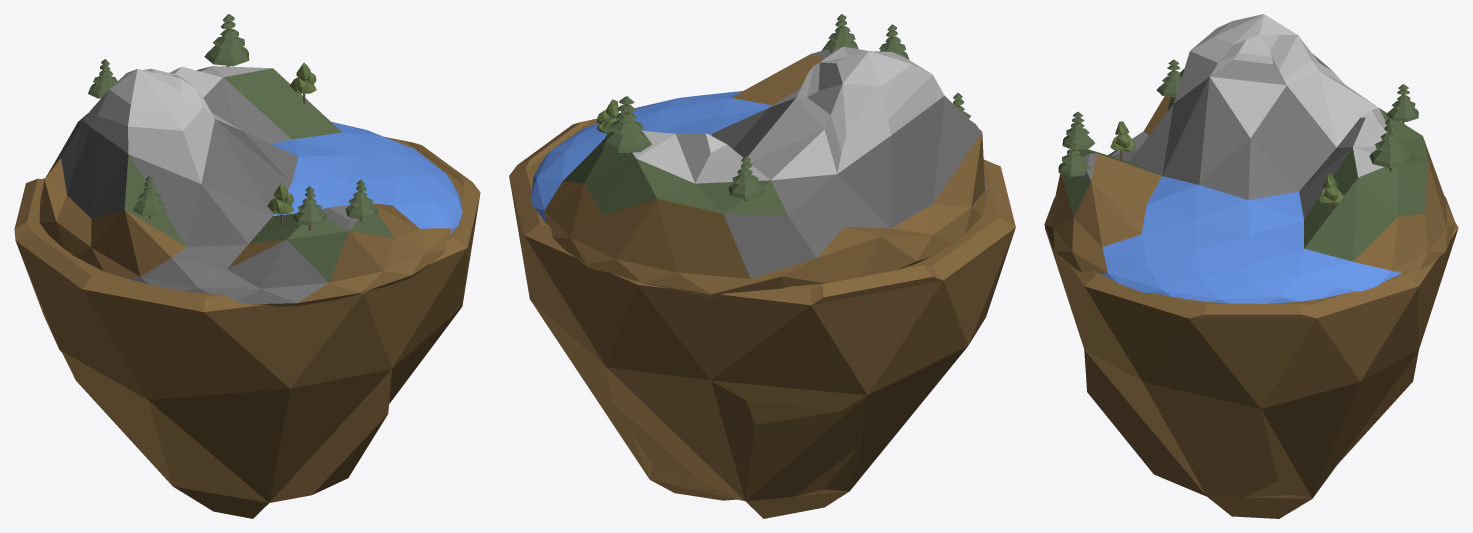
The model's file is snowMountains.glb.
3 views of the same model, side by side, from view 1: azimuth 30°, elevation 25°; view 2: azimuth 150°, elevation 25°; view 3: azimuth 270°, elevation 25° (orthographic). The views are drawn at different scales.
Parts seen in each view (by area): view 1: planet, Icosphere.001, Cone.005, Cone.004, Cone.002, Cone.001, Cone.003, Tree Type4 01 Model, Tree Type4 01 Model.002; view 2: planet, Icosphere.001, Cone.005, Cone.003, Cone.001; view 3: Icosphere.001, planet, Cone.005, Cone.001, Cone.003, Cone.004, Cone.002, Tree Type4 01 Model.002, Tree Type4 01 Model.
Part boxes in pixels (x1,y1,x2,y2): planet: [14, 137, 480, 518]; Icosphere.001: [39, 66, 462, 306]; Cone.005: [204, 14, 249, 66]; Cone.004: [293, 186, 327, 230]; Cone.002: [133, 176, 166, 219]; Cone.001: [345, 180, 378, 221]; Cone.003: [88, 59, 117, 98]; Tree Type4 01 Model: [289, 62, 316, 93]; Tree Type4 01 Model.002: [267, 182, 293, 214]; planet: [509, 118, 1015, 518]; Icosphere.001: [530, 46, 987, 297]; Cone.005: [603, 96, 652, 157]; Cone.003: [728, 156, 765, 201]; Cone.001: [822, 14, 858, 53]; Icosphere.001: [1044, 14, 1455, 303]; planet: [1045, 223, 1458, 518]; Cone.005: [1369, 118, 1412, 171]; Cone.001: [1058, 138, 1090, 178]; Cone.003: [1386, 84, 1418, 123]; Cone.004: [1062, 111, 1094, 150]; Cone.002: [1156, 59, 1181, 100]; Tree Type4 01 Model.002: [1110, 121, 1136, 151]; Tree Type4 01 Model: [1318, 174, 1344, 204].
Size of the model in its own units: 2.8 by 3.02 by 2.62.
